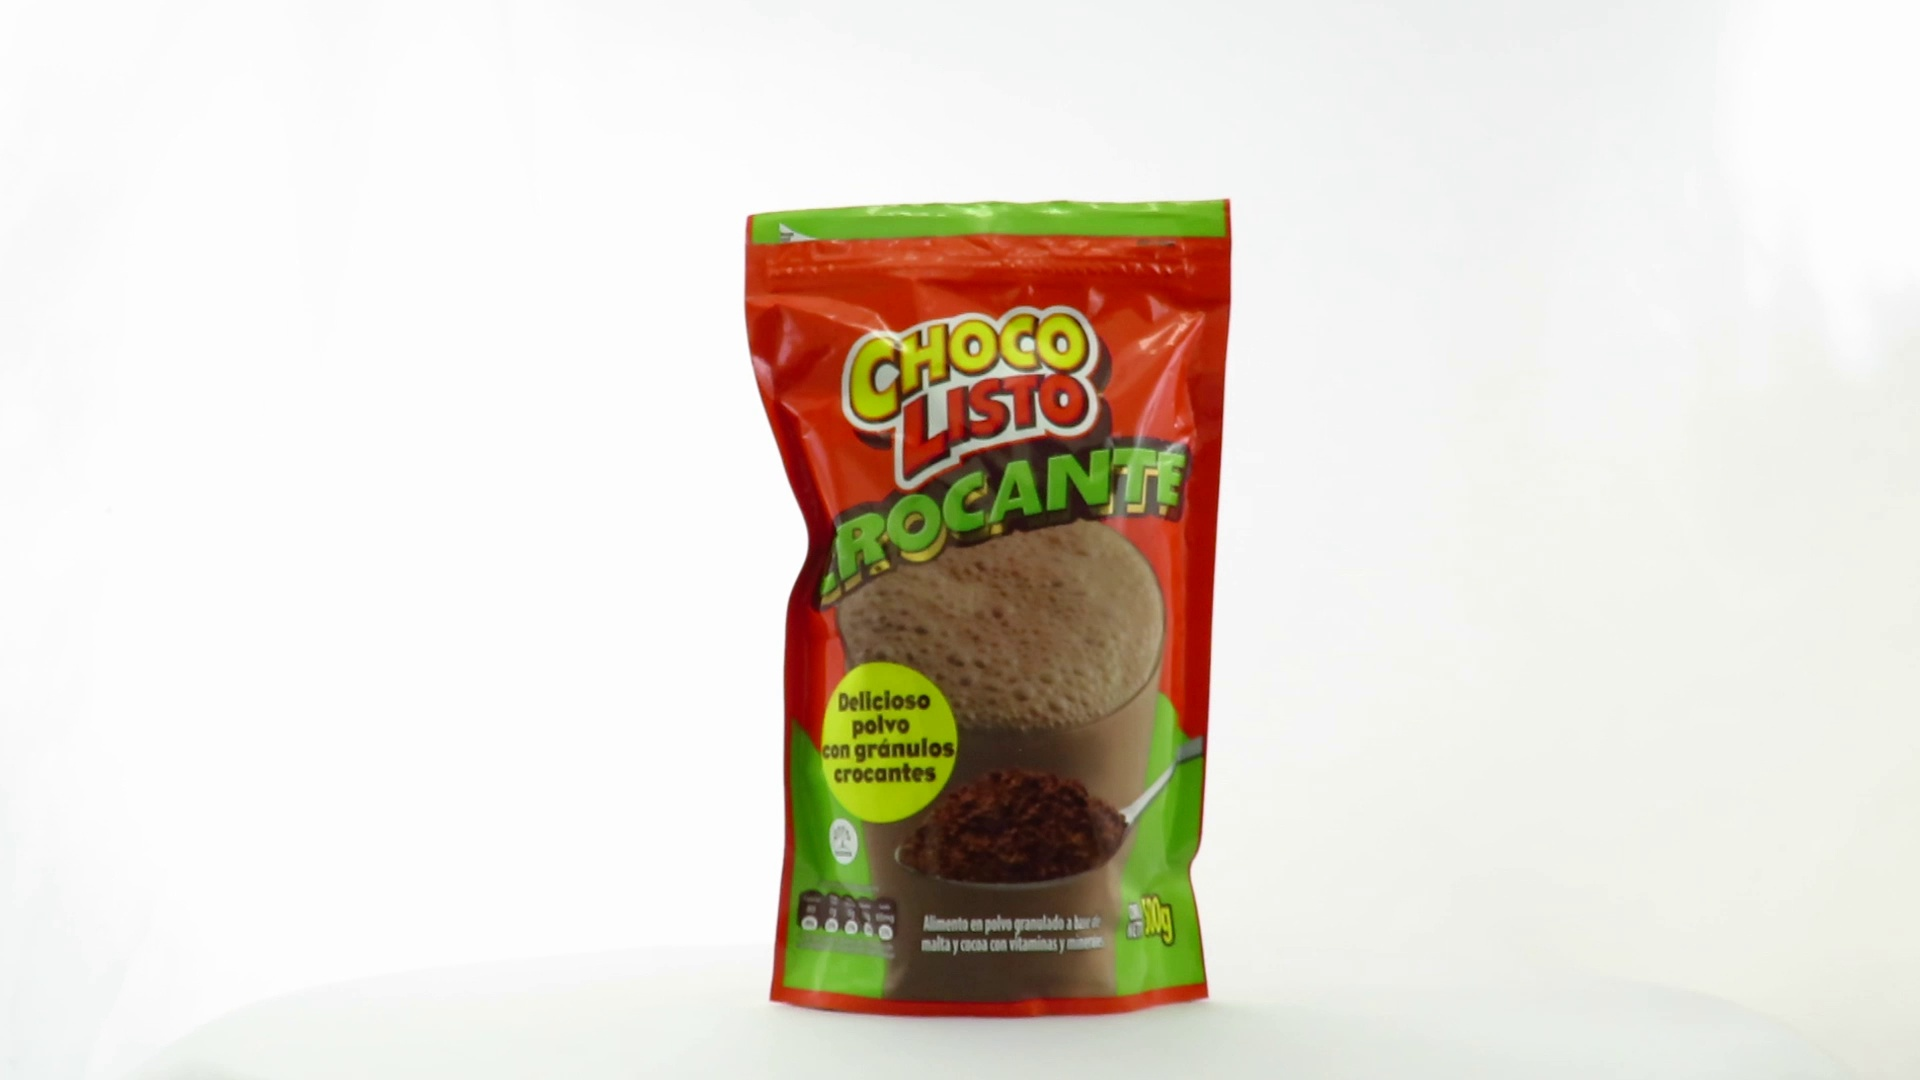COL0170102DYP50000: (738, 193, 1238, 1025)
